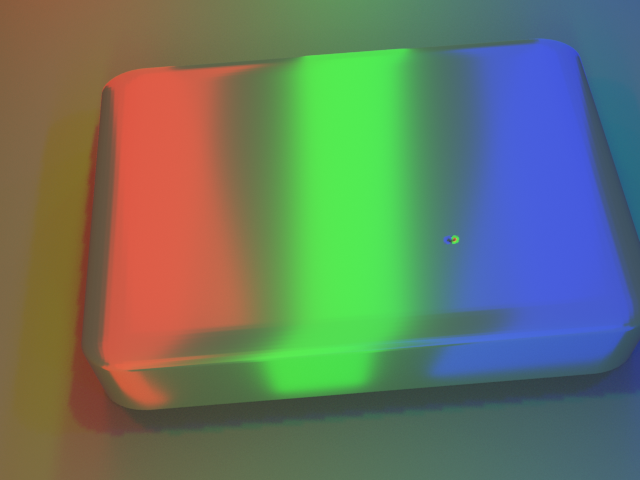dent: (449, 222, 481, 259)
